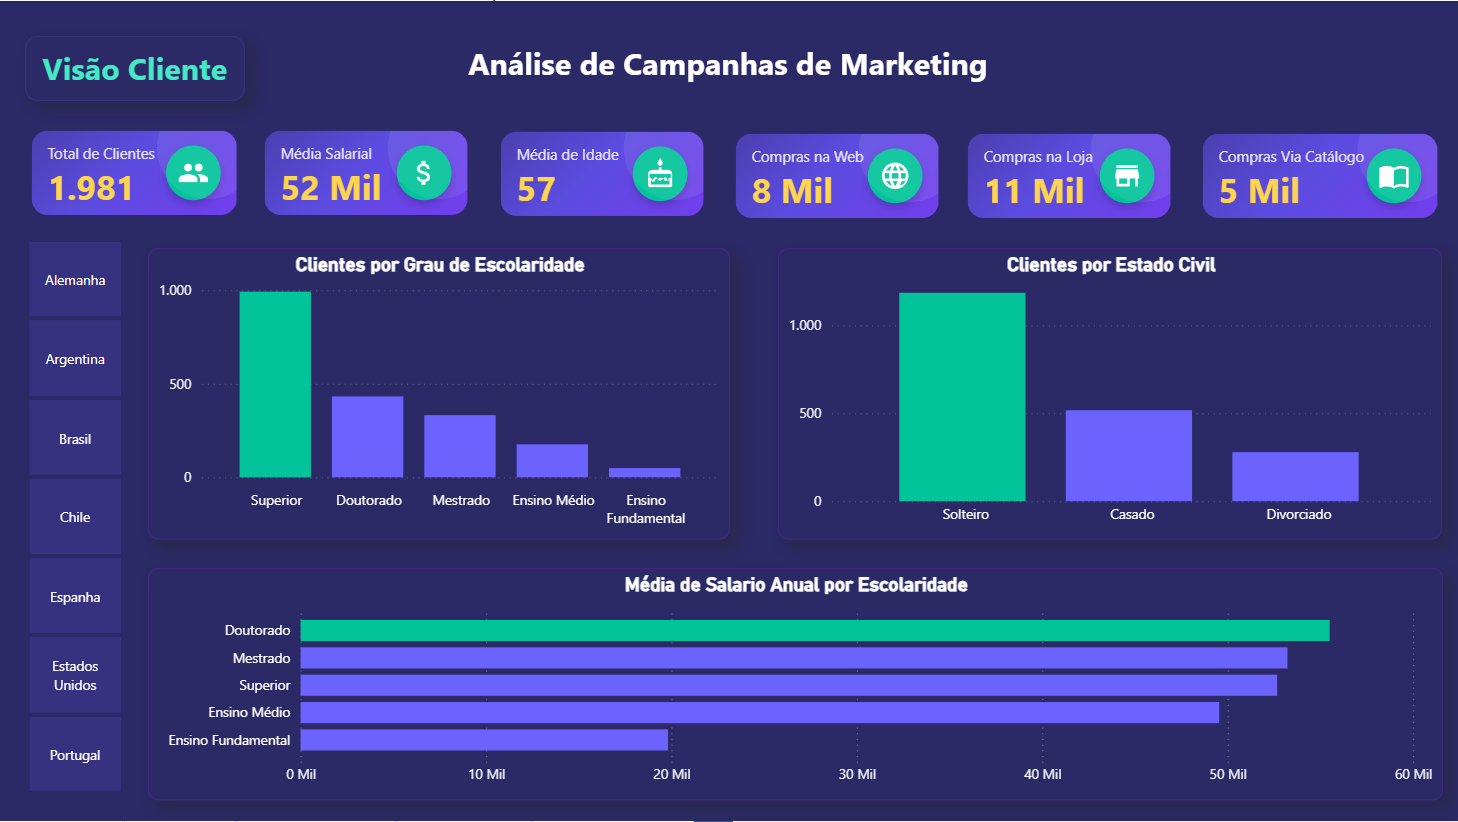

This screenshot's page, from the dashboard's own definition file:
{"tool":"powerbi","page":{"name":"Visão Cliente","canvas":[1280,720],"ordinal":1},"visuals":[{"type":"columnChart","title":"Clientes por Grau de Escolaridade","fields":{"Category":["dados_mkt.Escolaridade"],"Y":["CountNonNull(dados_mkt.ID)"]},"box":[129.7,217.1,511.1,256.3],"z":0},{"type":"columnChart","fields":{"Category":["dados_mkt.Estado Civil"],"Y":["CountNonNull(dados_mkt.ID)"]},"box":[683,217.1,583.5,256.3],"z":1000},{"type":"slicer","fields":{"Values":["dados_mkt.Pais"]},"box":[0,204.8,129.8,496.5],"z":2000},{"type":"textbox","box":[380.2,30.7,518,66.7],"z":3000},{"type":"barChart","title":"Média de Salario Anual por Escolaridade","fields":{"Y":["Avg(dados_mkt.Salario Anual)"],"Category":["dados_mkt.Escolaridade"]},"box":[129.7,497.5,1136.8,203.5],"z":4000},{"type":"textbox","box":[22,31,193,57],"z":5000},{"type":"htmlContent443BE3AD55E043BF878BED274D3A6855","fields":{"content":["Medidas.Card Total Clientes"]},"box":[22.6,108.6,190,95],"z":6000},{"type":"htmlContent443BE3AD55E043BF878BED274D3A6855","fields":{"content":["Medidas.Card Média Salarial"]},"box":[227.7,108.6,188.5,93.5],"z":7000},{"type":"htmlContent443BE3AD55E043BF878BED274D3A6855","fields":{"content":["Medidas.Card Média Idade"]},"box":[434.2,110.1,188.5,93.5],"z":8000},{"type":"htmlContent443BE3AD55E043BF878BED274D3A6855","fields":{"content":["Medidas.Card Compras Web"]},"box":[640.8,111.6,188.5,93.5],"z":9000},{"type":"htmlContent443BE3AD55E043BF878BED274D3A6855","fields":{"content":["Medidas.Card Compras Loja"]},"box":[844.3,111.6,188.5,93.5],"z":10000},{"type":"htmlContent443BE3AD55E043BF878BED274D3A6855","fields":{"content":["Medidas.Card Compras Catálogo"]},"box":[1050.8,111.6,215.6,93.5],"z":11000}]}

Visuals, with their boxes in screenshot pixels (x1, y1, x2, y2), scaled from the page's 1280x720 canvas onto the 1458x822 screenshot:
"Clientes por Grau de Escolaridade" columnChart: rect(148, 248, 730, 540)
columnChart - dados_mkt.Estado Civil x CountNonNull(dados_mkt.ID): rect(778, 248, 1443, 540)
slicer - dados_mkt.Pais: rect(0, 234, 148, 801)
textbox: rect(433, 35, 1023, 111)
"Média de Salario Anual por Escolaridade" barChart: rect(148, 568, 1443, 800)
textbox: rect(25, 35, 245, 100)
htmlContent443BE3AD55E043BF878BED274D3A6855 - Medidas.Card Total Clientes: rect(26, 124, 242, 232)
htmlContent443BE3AD55E043BF878BED274D3A6855 - Medidas.Card Média Salarial: rect(259, 124, 474, 231)
htmlContent443BE3AD55E043BF878BED274D3A6855 - Medidas.Card Média Idade: rect(495, 126, 709, 232)
htmlContent443BE3AD55E043BF878BED274D3A6855 - Medidas.Card Compras Web: rect(730, 127, 945, 234)
htmlContent443BE3AD55E043BF878BED274D3A6855 - Medidas.Card Compras Loja: rect(962, 127, 1176, 234)
htmlContent443BE3AD55E043BF878BED274D3A6855 - Medidas.Card Compras Catálogo: rect(1197, 127, 1443, 234)
